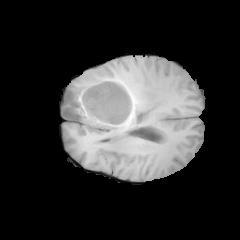glioma: (62, 80, 171, 137)
